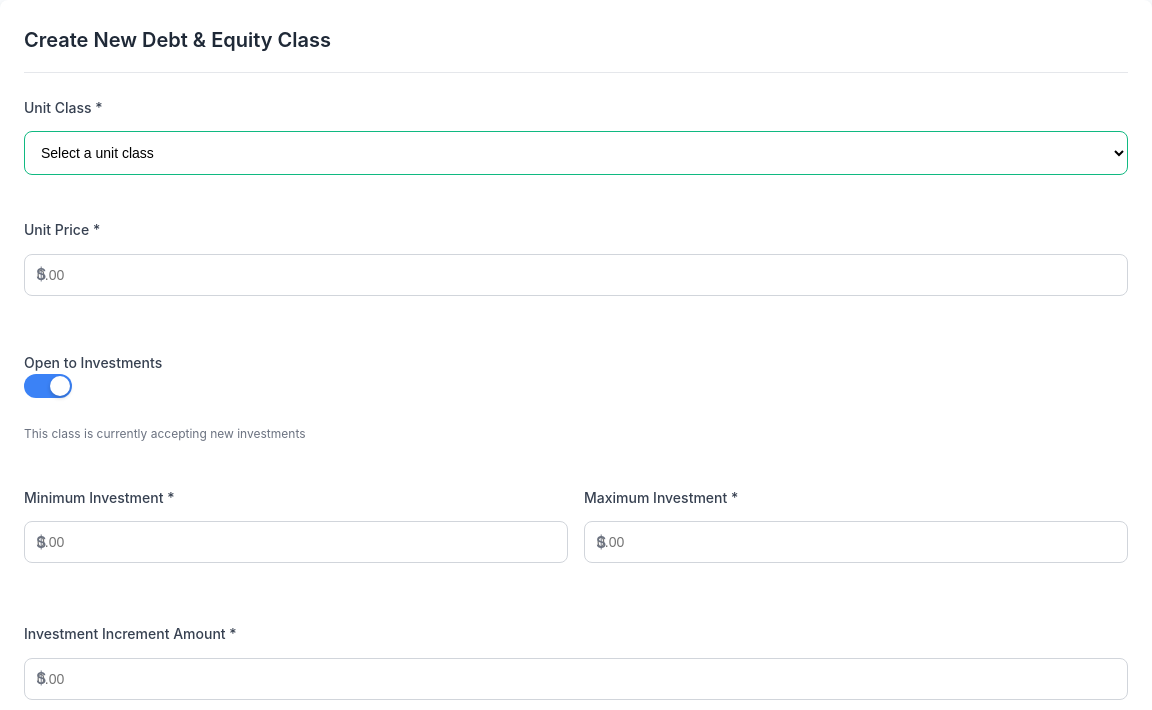
DebtEquityClassForm › cancels inline custom class creation
Select "+ Create your own" in the dropdown labelled "Unit Class *" at (576, 153), box [24,131,1128,175]
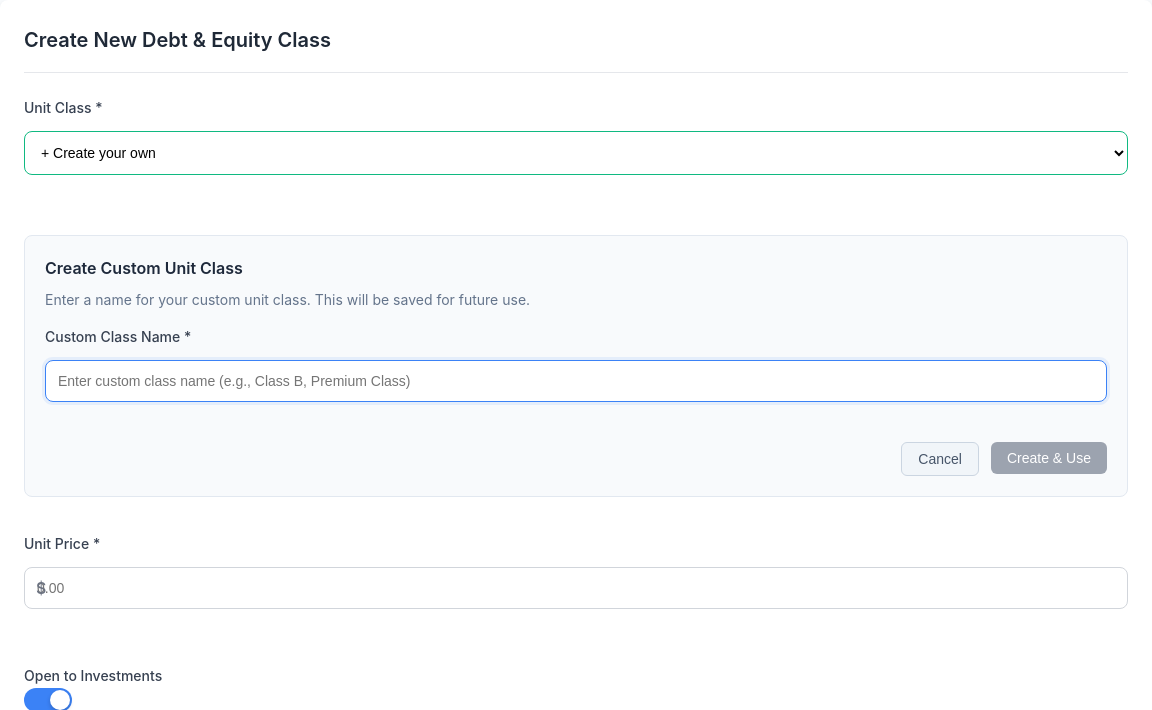
Expected: the heading "Create Custom Unit Class" is shown, [45,258,243,278]
Note: Find the cancel button within the inline form
Click the button with class "cancel-button".
click(940, 459)  # box [901,442,979,476]
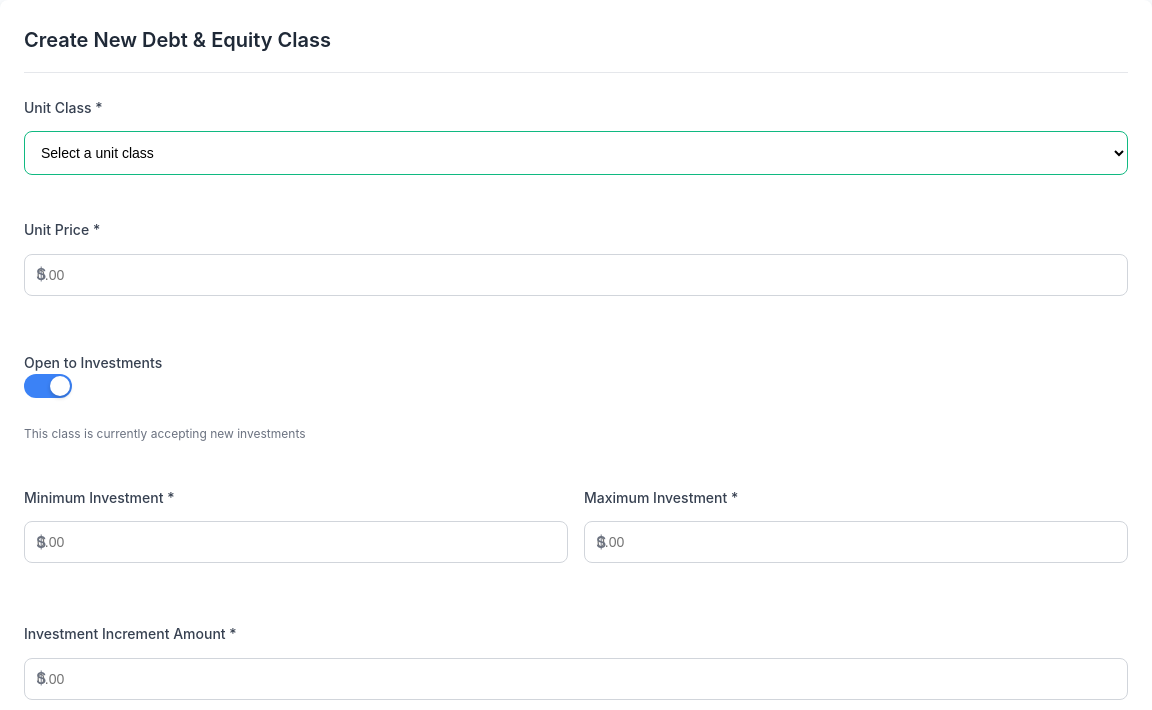
Expected: the heading "Create Custom Unit Class" is gone
